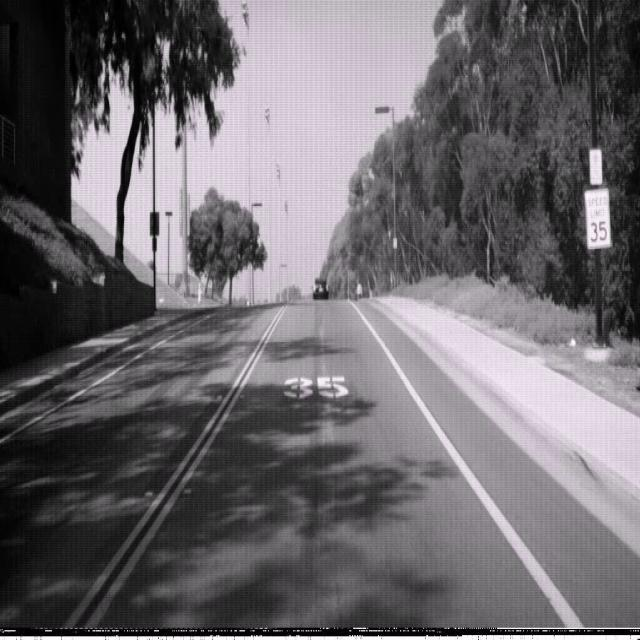speedLimit35: (584, 185, 612, 250)
